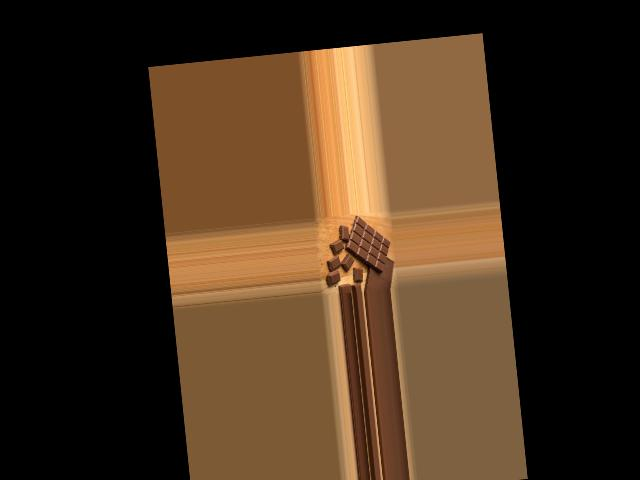chocolate: (340, 214, 393, 276)
